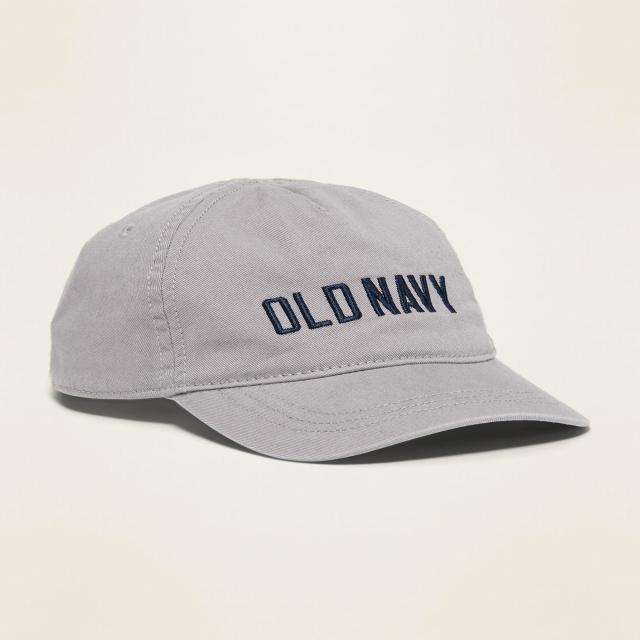mask: (50, 172, 609, 465)
